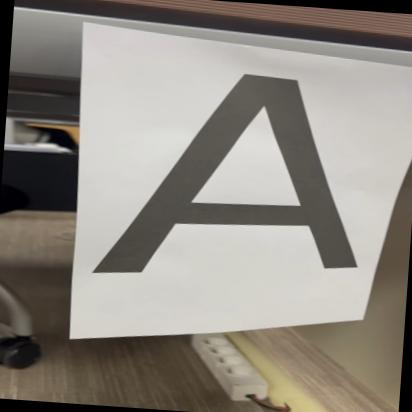seat: (80, 51, 386, 294)
